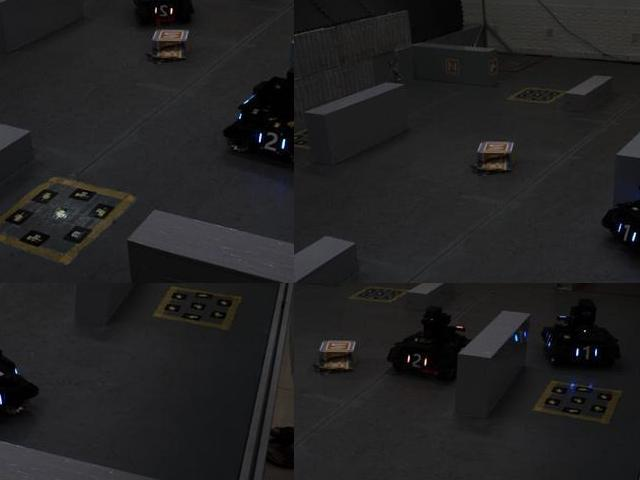armor: (251, 127, 289, 157), (613, 217, 639, 249), (403, 350, 431, 372), (151, 1, 179, 21), (573, 344, 601, 363), (0, 387, 9, 422)
